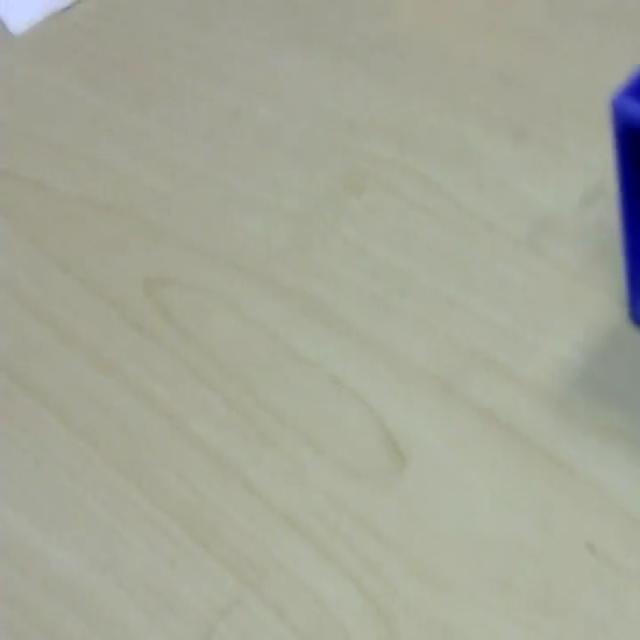blue_block: (608, 63, 638, 325)
